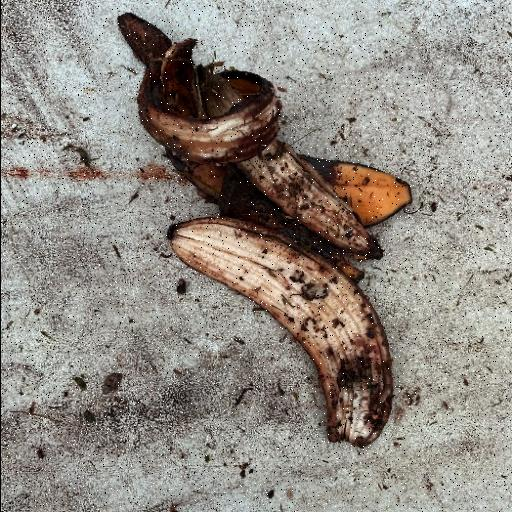Waste: (116, 11, 414, 449), (168, 214, 394, 448)
